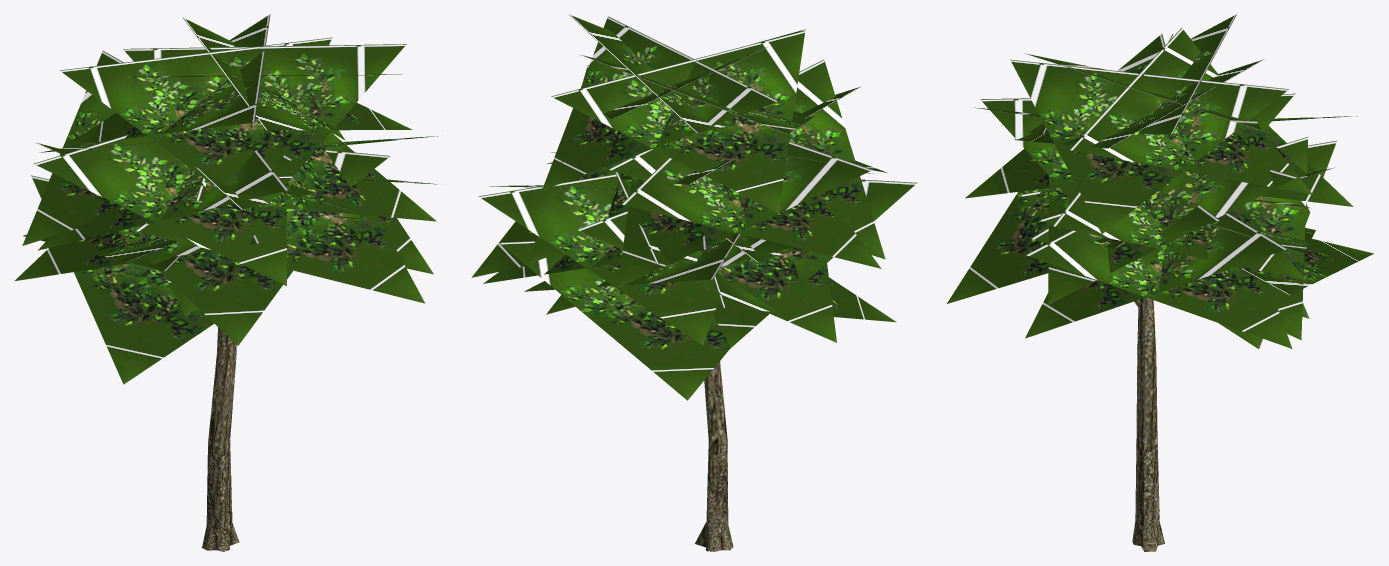
Rendered from toona.dae.
3 renders of one model, left to right at view 1: azimuth 30°, elevation 25°; view 2: azimuth 150°, elevation 25°; view 3: azimuth 270°, elevation 25°, orthographic.
Visible parts, largest first — view 1: tree_oak_top_a1; view 2: tree_oak_top_a1; view 3: tree_oak_top_a1.
Part boxes in pixels (bbox=[...]): tree_oak_top_a1: bbox=[14, 14, 440, 551]; tree_oak_top_a1: bbox=[471, 14, 917, 551]; tree_oak_top_a1: bbox=[947, 14, 1373, 551].
Size of the model in its own units: 185 by 235 by 192.
Materials: 2 (2 with a texture image).
